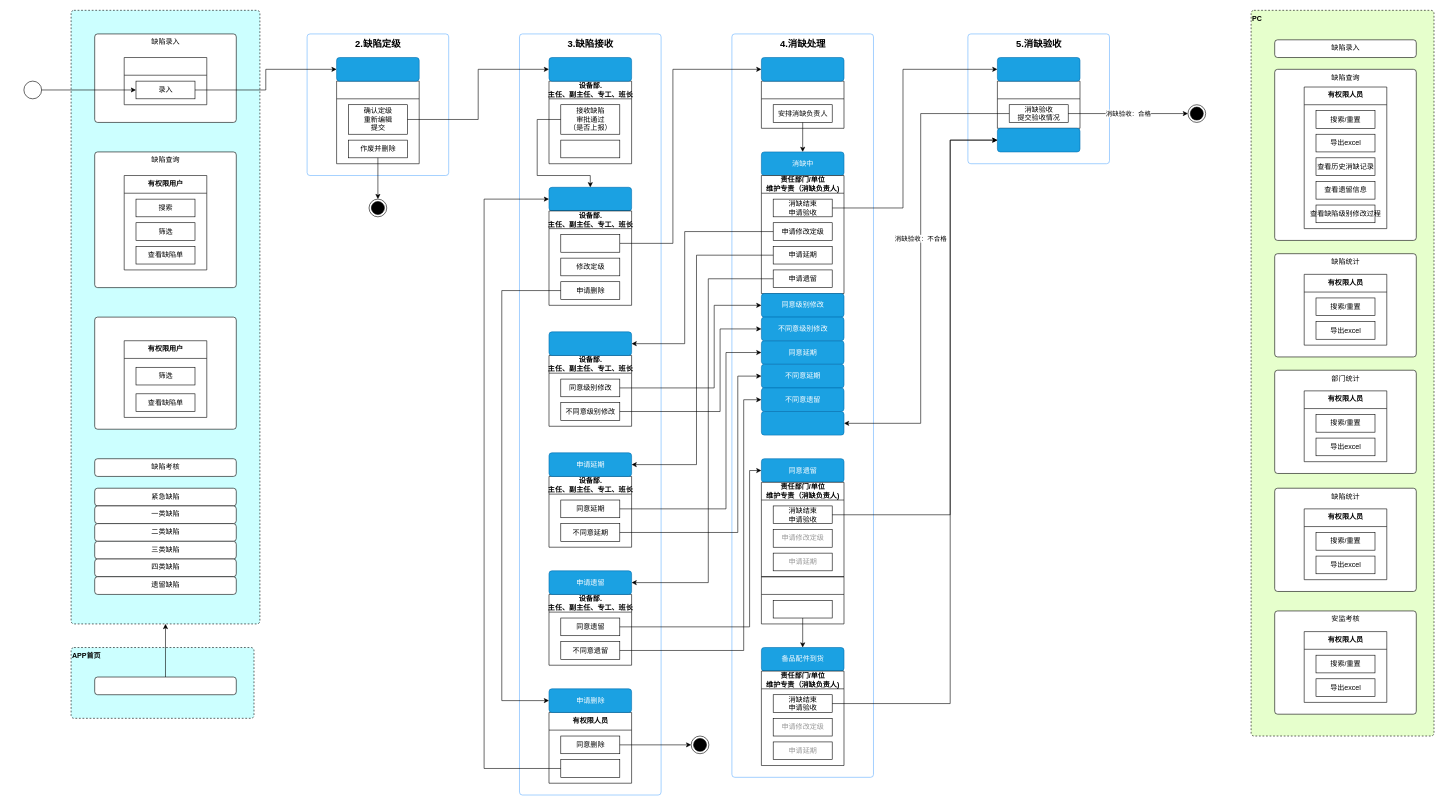
Some shapes in this 1445 by 805 pixel diagram are drawn without their labels. The box of each missing label's shape, as (x1, y1, x2, y2) in pixels:
1.缺陷录入: (23, 81, 42, 99)
APP缺陷页面: (71, 10, 260, 624)
不同意删除: (560, 759, 620, 777)
备品配件到货通知: (773, 600, 832, 618)
待我处理: (94, 317, 236, 429)
指派维护管理员: (560, 234, 620, 252)
未处理缺陷: (94, 676, 236, 695)
机组长、班长: (336, 81, 419, 164)
检修缺陷作废: (691, 735, 709, 754)
消缺安排中: (761, 57, 844, 81)
物资管理部: (761, 576, 844, 624)
申请级别修改: (548, 331, 632, 355)
申请验收: (997, 57, 1080, 81)
缺陷定级: (336, 57, 419, 81)
缺陷已接收: (548, 187, 632, 211)
缺陷待接收: (548, 57, 632, 81)
责任部门/单位: (997, 81, 1080, 128)
责任部门/单位 缺陷维护管理员: (761, 81, 844, 128)
转发其他专业: (560, 140, 620, 158)
运行人员: (124, 57, 207, 105)
运行缺陷作废: (368, 199, 387, 217)
遗留到货申请验收: (997, 128, 1080, 152)
验收不合格: (761, 411, 844, 435)
验收合格: (1187, 104, 1206, 122)
